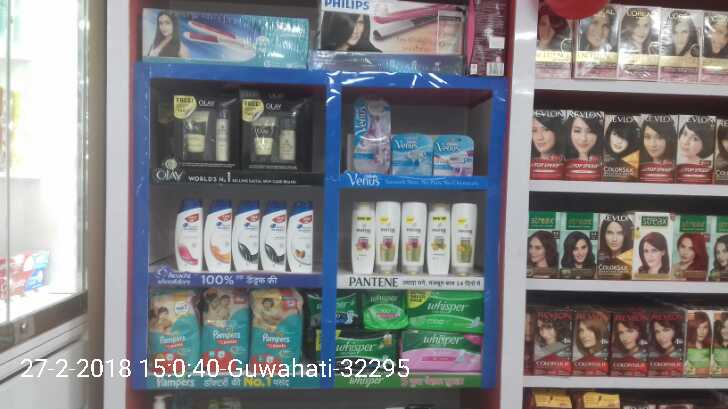venus: (354, 94, 390, 173), (391, 134, 433, 176), (433, 136, 472, 176)
